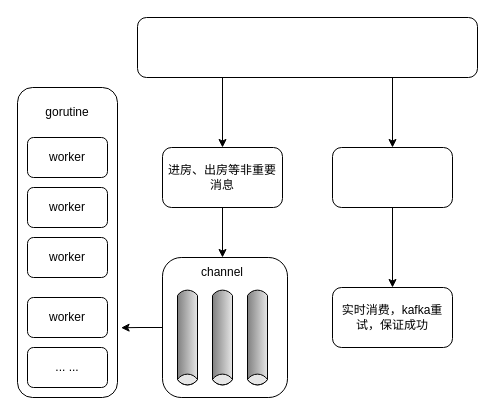
Some shapes in this 495 by 415 pixel diagram are drawn without their labels. Each missing label, with the centre of its shape:
kafka: the point at 307,47
开关播、回放通知等核心消息: the point at 392,177
